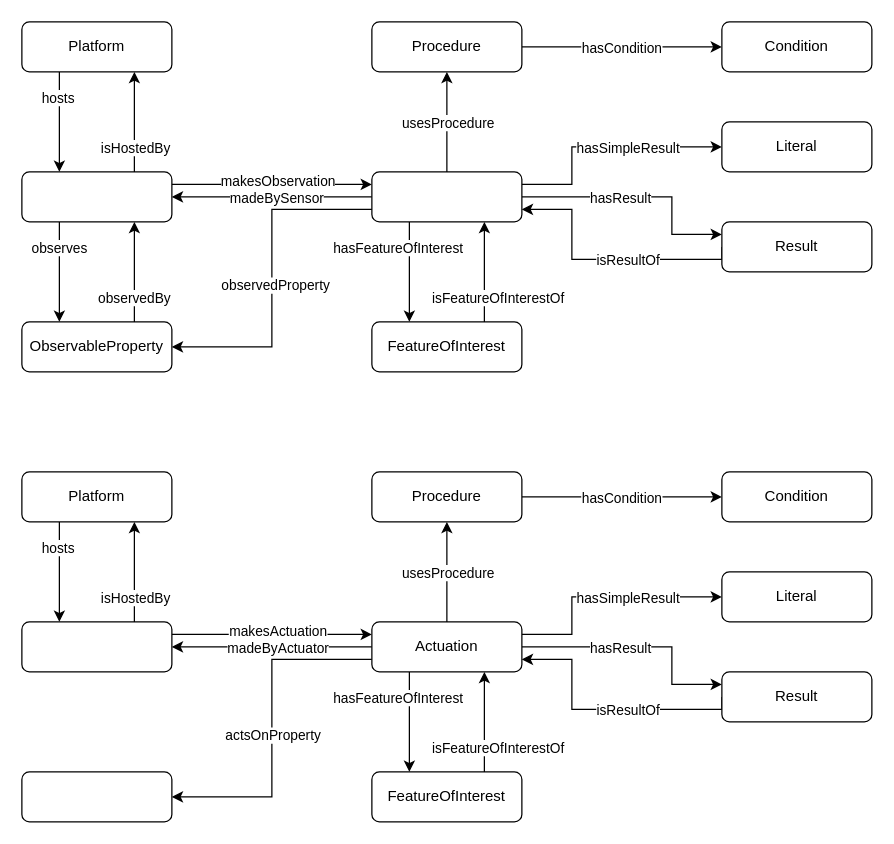
This 894x844 diagram has some shape labels left out. The shapes that lost their labels are listed below. From the top down, each one's centre as x and y in pixels, then its label:
[96,196]: Sensor
[446,196]: Observation
[96,646]: Actuator
[96,796]: ActuableProperty
